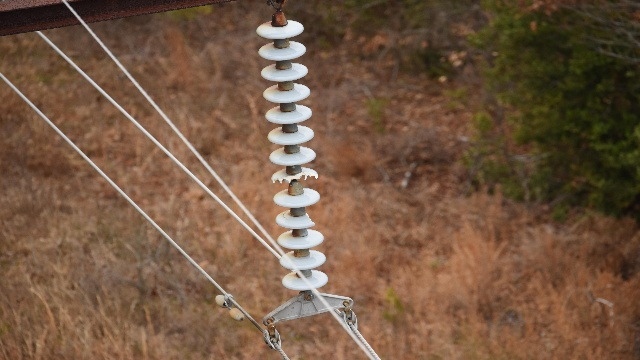broken_local: (269, 169, 318, 186)
insulator_unspecified: (254, 19, 330, 290)
